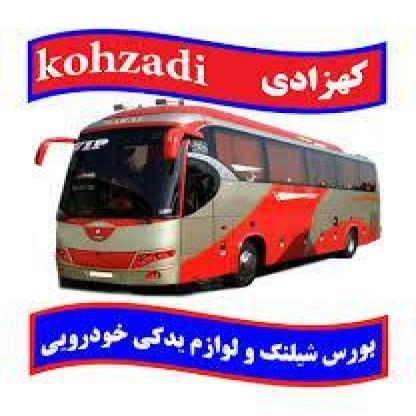Bus: (2, 105, 408, 296)
